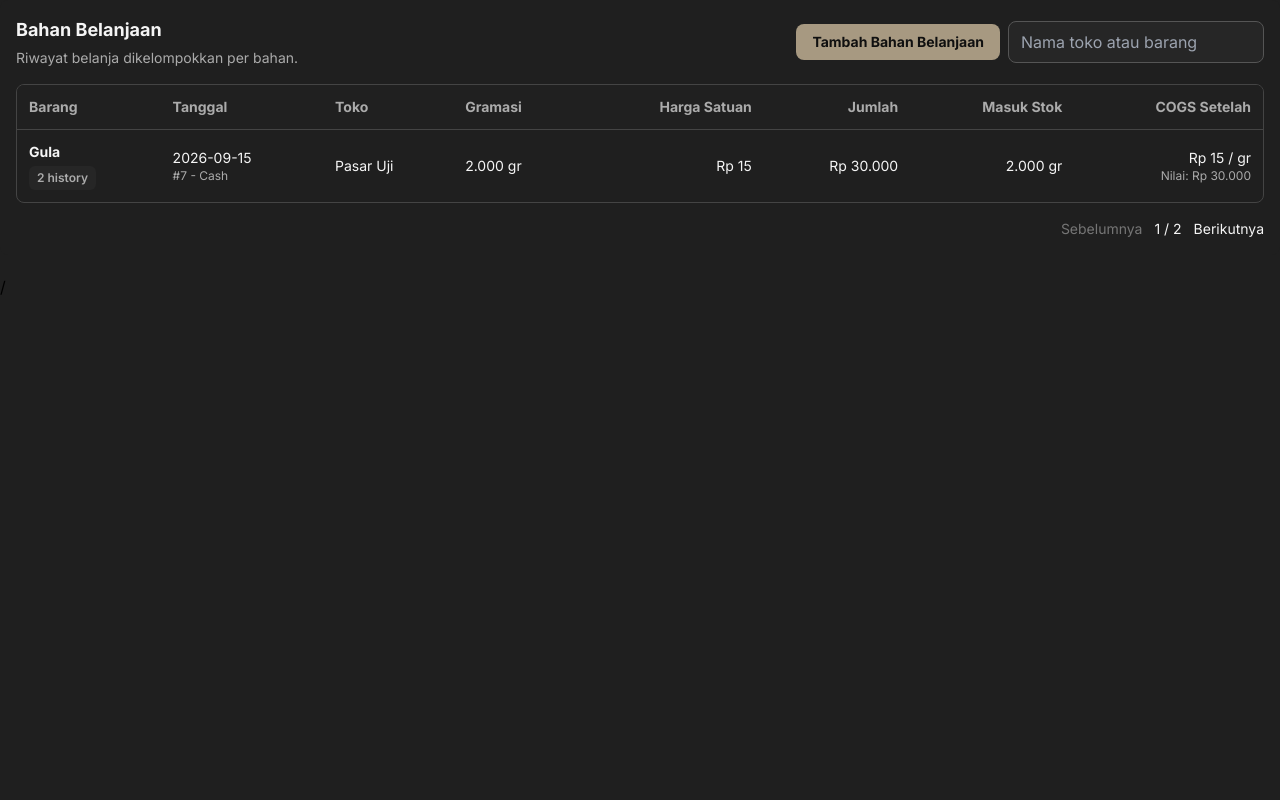
Test: shopping history › shows item detail with history, activity log and admin actions
What coordinates should you click on to do the following:
click the button that starts with "Gula"
I would click on:
 (45, 152)
Its box is [17,130,1263,202].
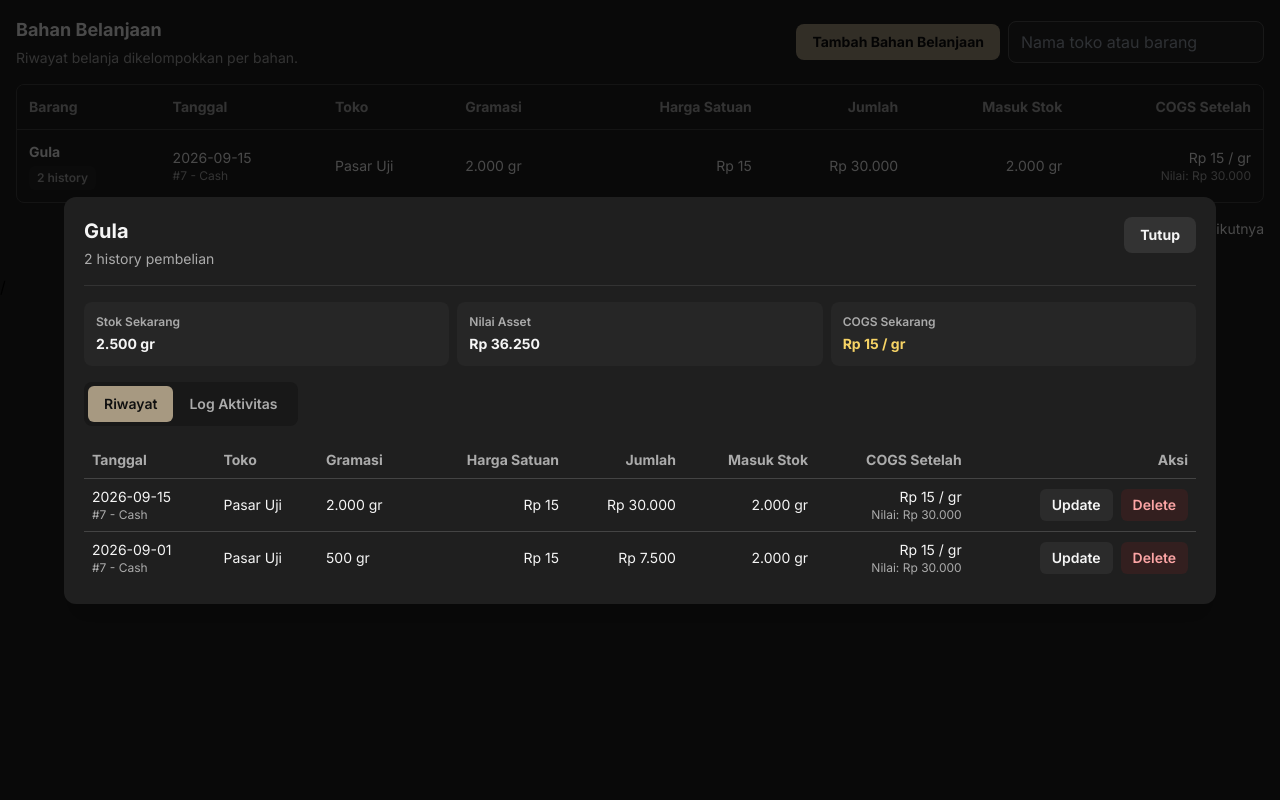
Expected: the text "2 history pembelian" is shown, [84,248,214,268]
Expected: the dialog shows "Rp 36.250", [469,334,540,352]
Expected: the dialog shows "Rp 15 / gr", [843,334,905,352]
What coordinates should you click on to do the following:
click the button "Delete" in the row of "2026-09-01"
I would click on:
 (1154, 558)
Its box is [1121,542,1188,574].
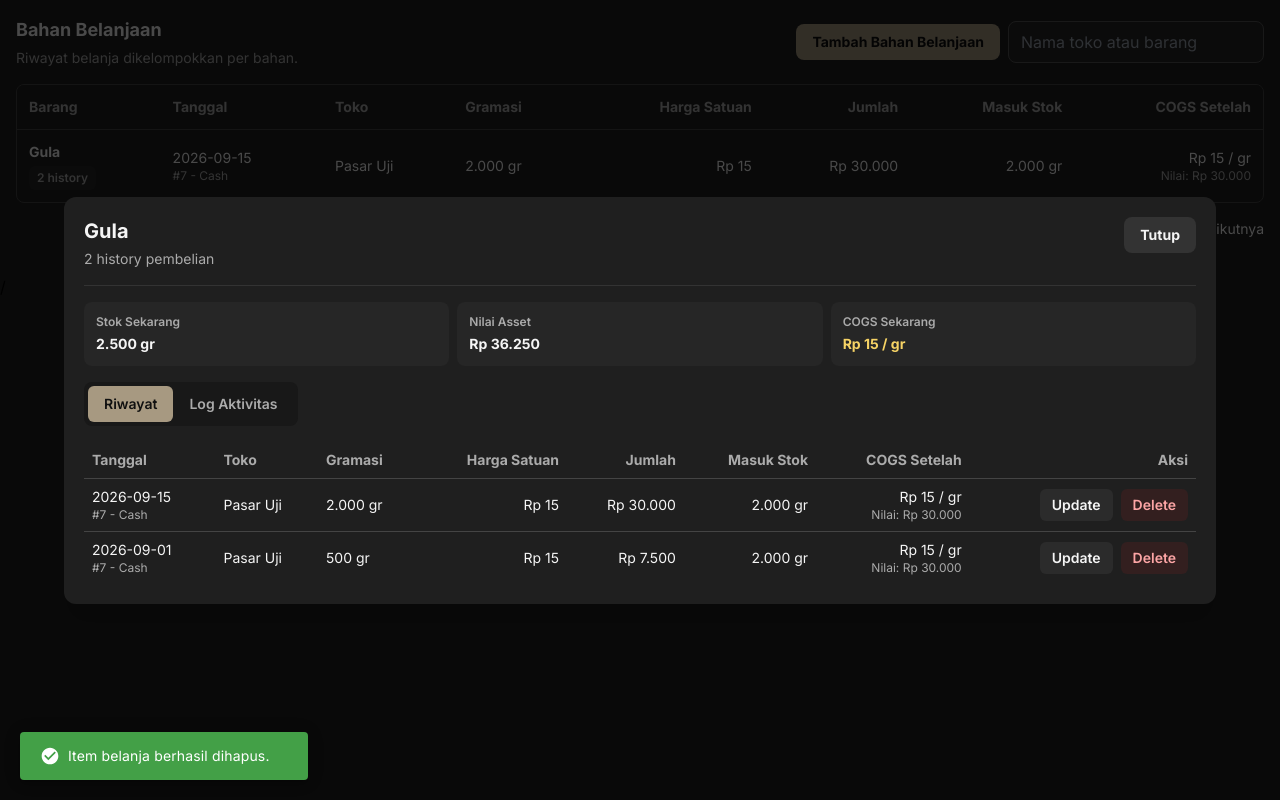
What coordinates should you click on to do the following:
click the button "Log Aktivitas"
I would click on:
 (233, 404)
Its box is [173,386,294,422].
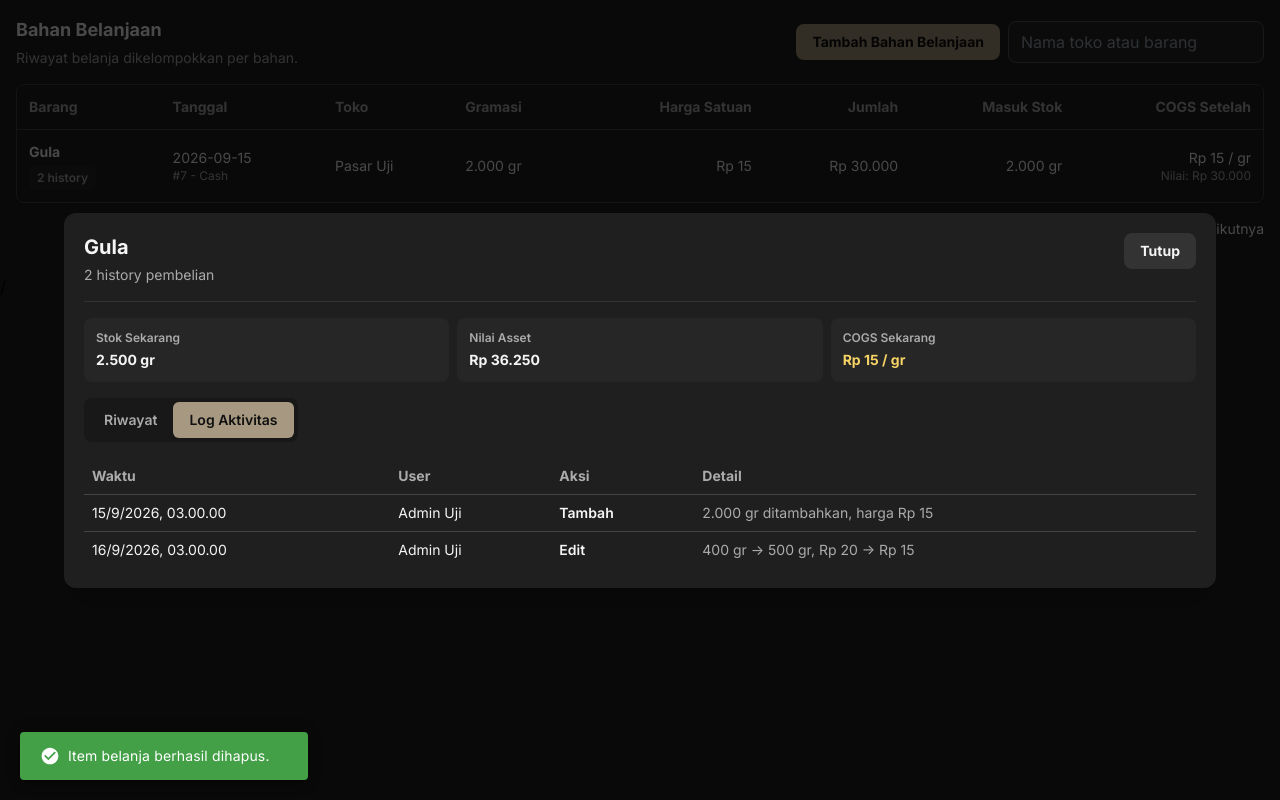
Expected: the dialog shows "2.000 gr ditambahkan, harga Rp 15", [702,504,933,520]
Expected: the dialog shows "400 gr -> 500 gr, Rp 20 -> Rp 15", [702,540,915,558]
